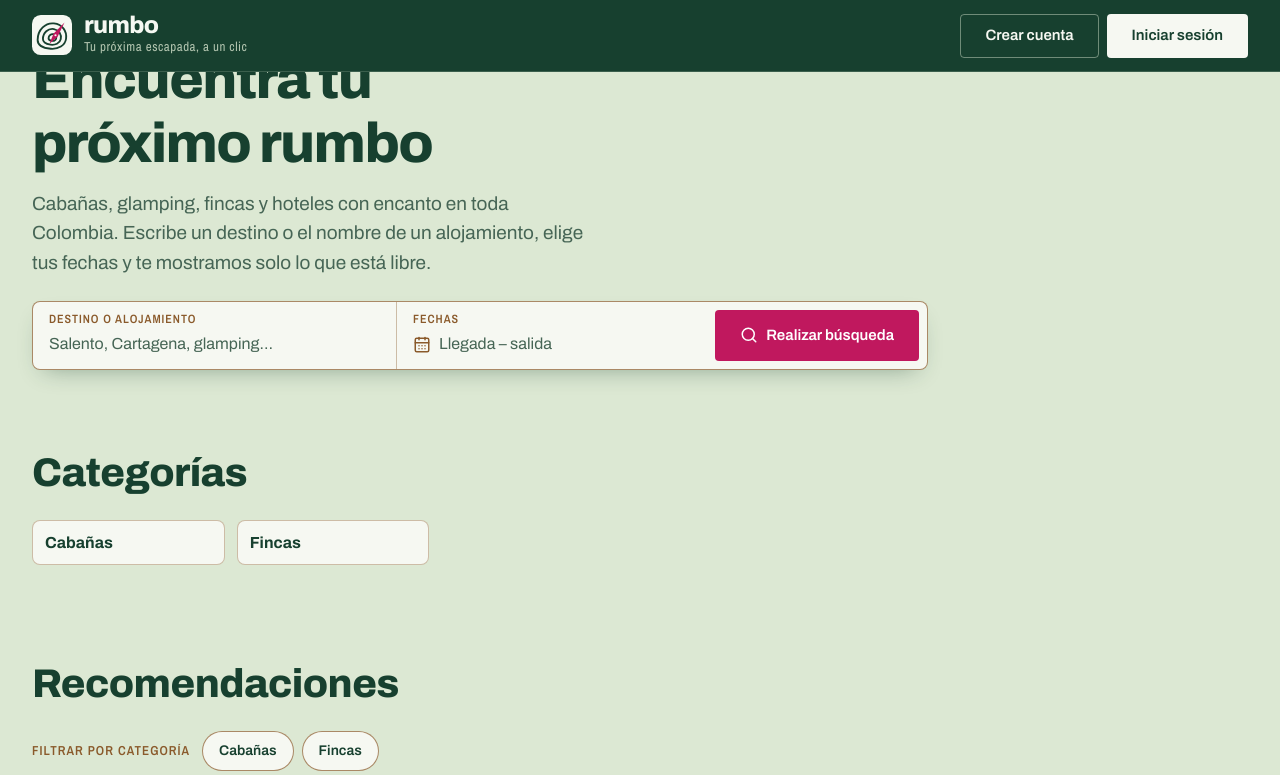
Features in detail (#18) and category filter (#20) › filters by one or more categories, shows "X de Y productos" and clears
Click the button "Cabañas" next to "Filtrar por categoría" at (248, 751), box top-left (202, 731), bottom-right (294, 771)
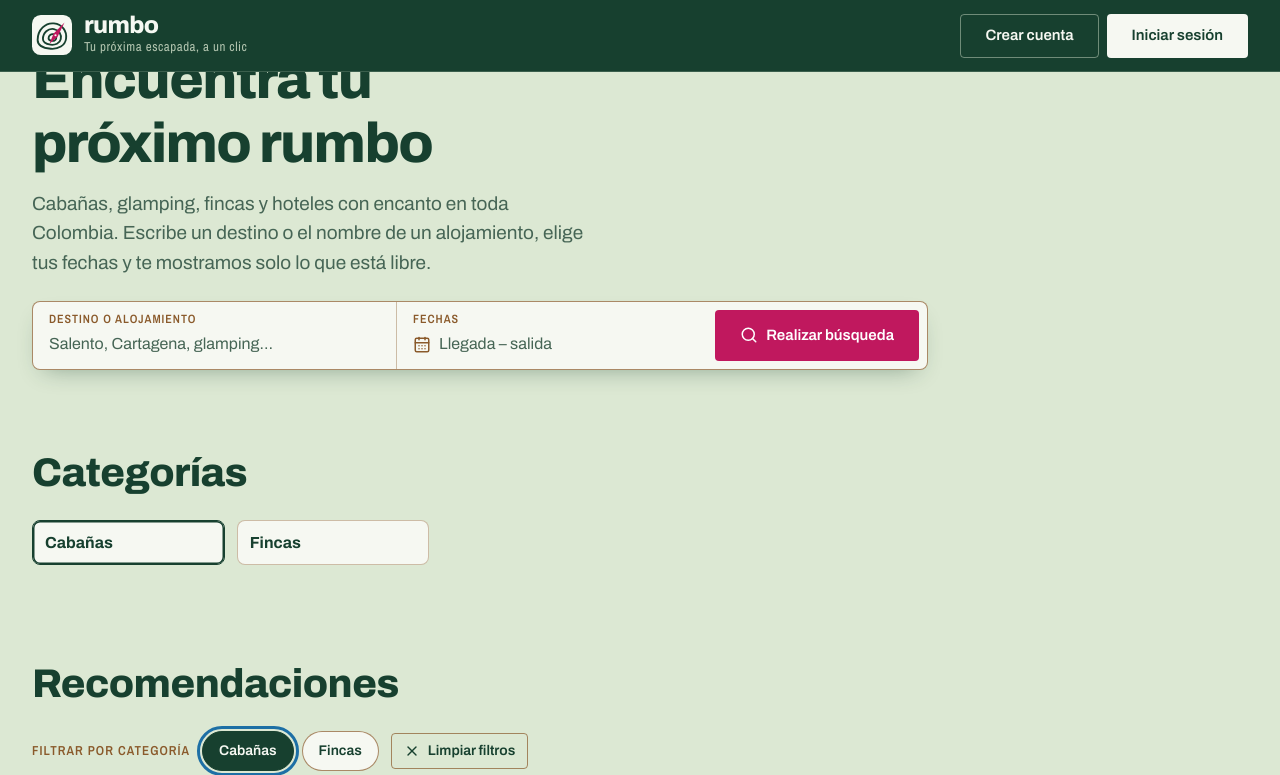
Check: the button "Cabañas" next to "Filtrar por categoría" is pressed, box top-left (202, 731), bottom-right (294, 771)
Click the button "Fincas" in the row of "Filtrar por categoría" at (340, 751), box top-left (302, 731), bottom-right (379, 771)
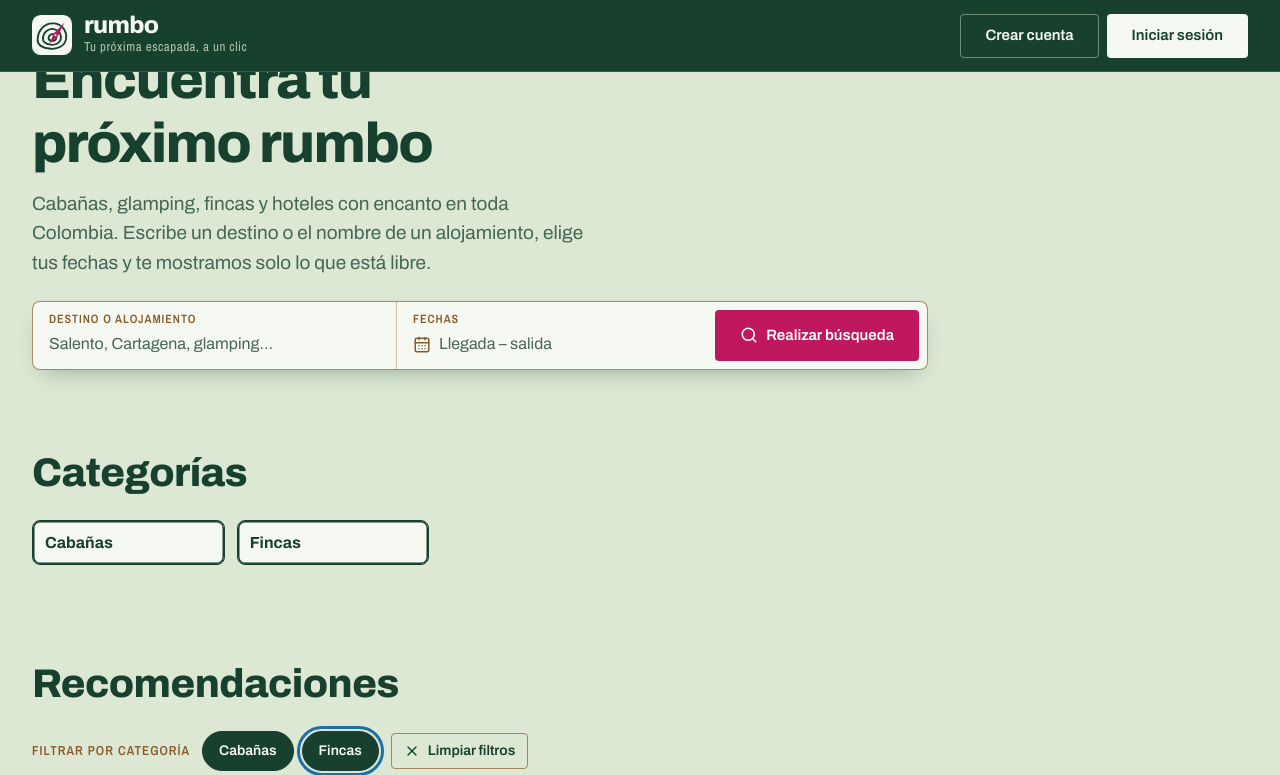
Click the button "Limpiar filtros" at (460, 751), box top-left (391, 733), bottom-right (528, 769)
(page scrolled)
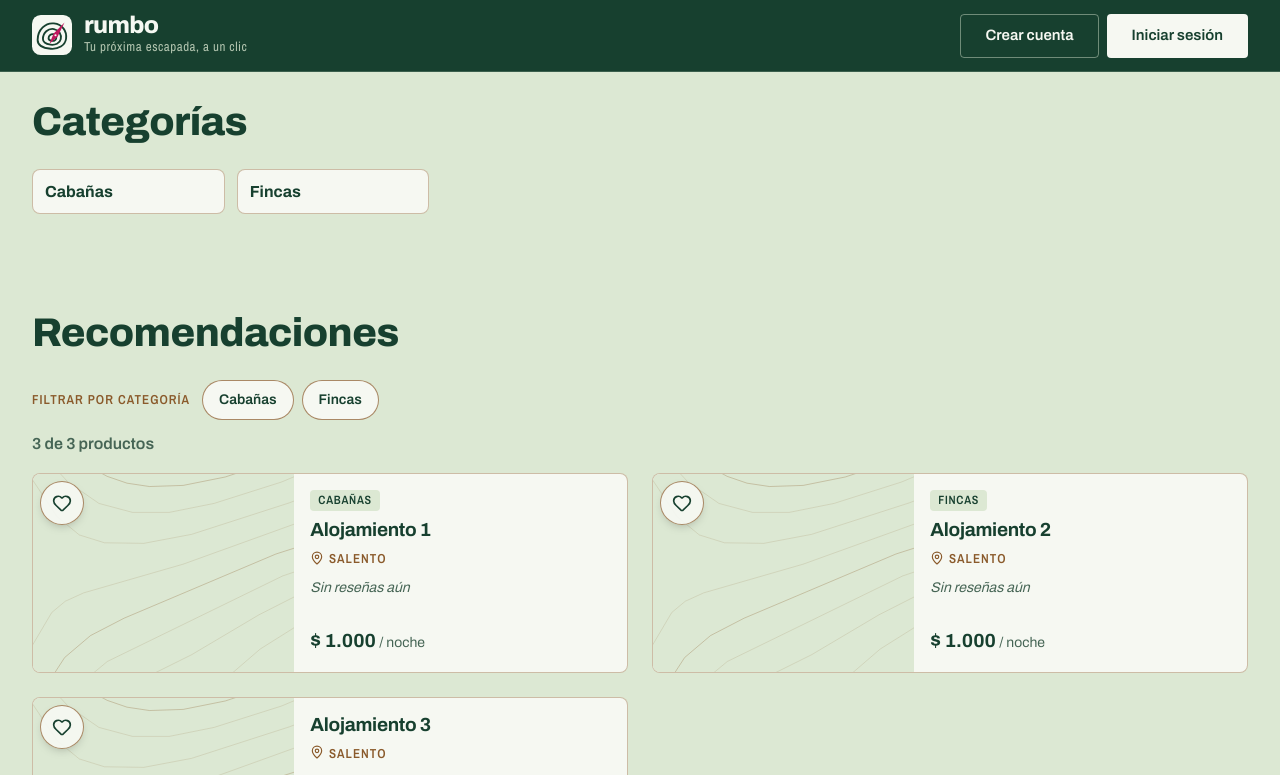
Check: the text "3 de 3 productos" is shown, box top-left (32, 435), bottom-right (154, 452)
Check: the button "Limpiar filtros" is gone
